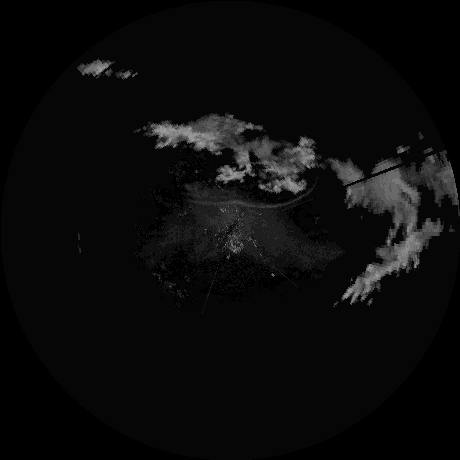frontgust: (192, 181, 316, 211)
